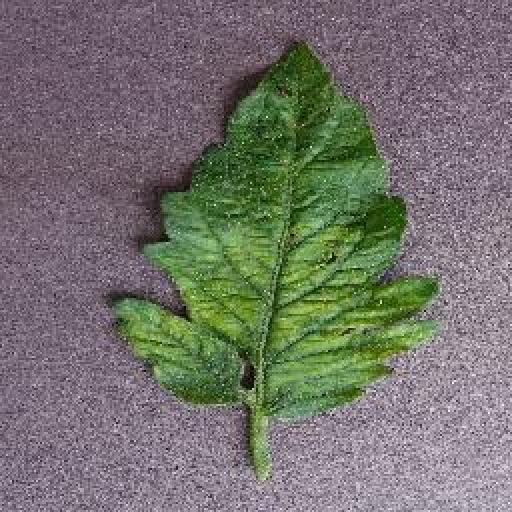Mosaic Virus: (106, 34, 444, 416)
